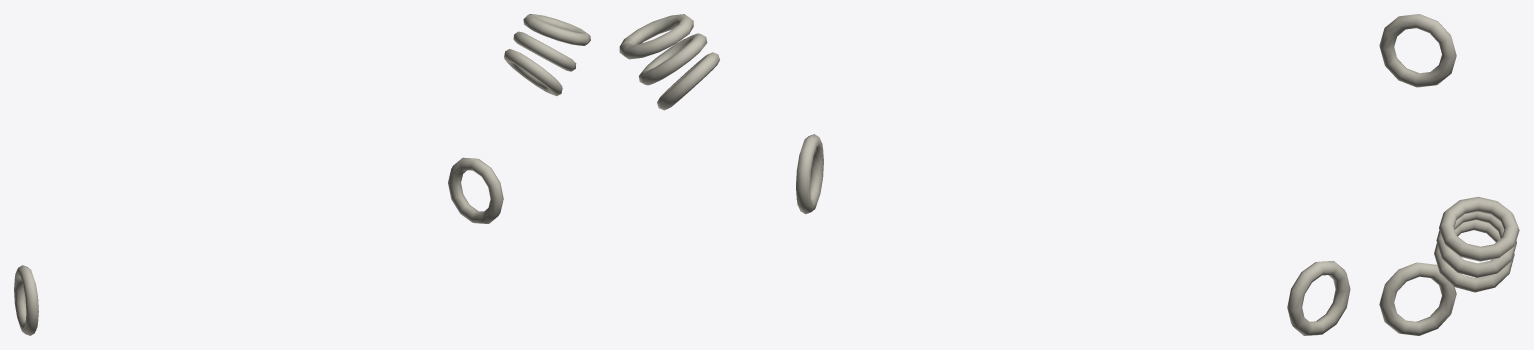
Rendered from Earring_13.fbx.
The picture shows the model from 3 angles, left to right: view 1: azimuth 30°, elevation 25°; view 2: azimuth 150°, elevation 25°; view 3: azimuth 270°, elevation 25°; orthographic projection. The views are drawn at different scales.
Visible parts, largest first — view 1: Earring_13; view 2: Earring_13; view 3: Earring_13.
Boxes of the visible parts, <box> form: Earring_13: <box>14,14,590,335</box>; Earring_13: <box>619,14,1350,335</box>; Earring_13: <box>1379,14,1519,335</box>.
Size of the model in its own units: 66.97 by 17.5 by 11.99.
